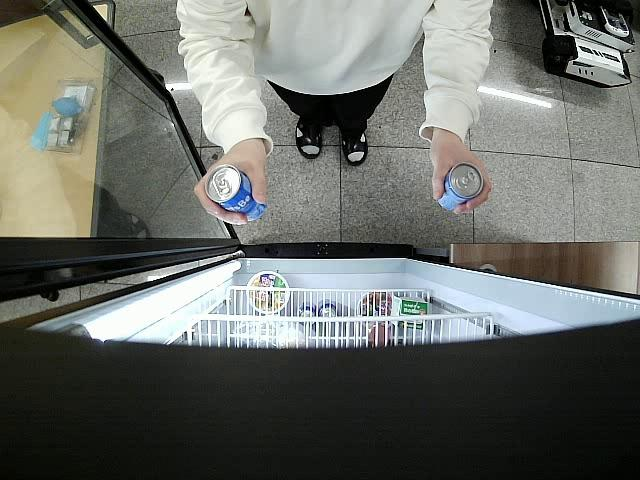00_hand: (193, 145, 268, 225), (428, 135, 492, 214)
15_letsbe: (204, 165, 267, 222), (437, 161, 484, 212)
